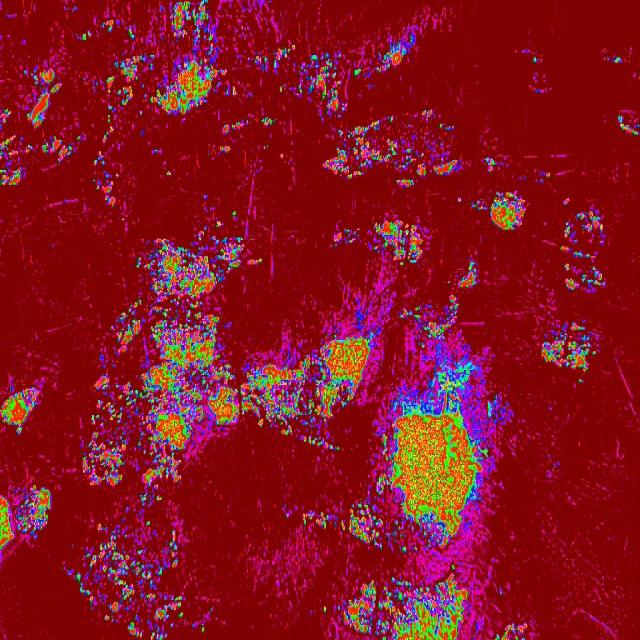fire: (90, 319, 380, 436), (378, 352, 500, 558), (65, 519, 186, 640), (120, 232, 243, 319), (320, 121, 466, 187), (335, 571, 471, 640), (558, 206, 608, 292), (157, 59, 229, 115), (132, 437, 186, 507), (165, 0, 229, 58), (398, 294, 463, 350), (297, 52, 346, 121), (0, 484, 52, 548), (368, 213, 430, 266), (540, 319, 598, 371), (106, 50, 156, 110), (24, 62, 64, 128), (82, 436, 126, 490), (374, 30, 420, 75), (0, 103, 24, 188), (0, 384, 39, 434), (90, 152, 119, 208), (490, 191, 528, 233), (348, 498, 379, 548), (250, 44, 296, 74), (299, 509, 347, 532), (41, 136, 75, 164), (456, 262, 480, 290), (299, 436, 342, 450), (334, 225, 361, 247), (617, 111, 640, 135), (497, 624, 528, 640), (483, 156, 506, 174), (222, 120, 250, 134), (418, 106, 439, 120), (537, 168, 553, 186), (469, 198, 488, 212), (99, 18, 115, 32), (259, 117, 279, 128), (218, 144, 236, 155), (125, 25, 137, 41), (246, 255, 262, 266), (612, 54, 624, 66), (352, 64, 363, 77), (278, 83, 288, 96), (105, 111, 114, 124), (23, 143, 34, 153), (531, 54, 540, 66), (163, 170, 174, 179), (230, 84, 238, 96), (102, 130, 110, 142), (575, 376, 586, 384), (151, 147, 162, 155), (80, 31, 88, 41), (214, 220, 224, 228), (386, 114, 396, 121), (562, 197, 572, 204), (605, 54, 612, 64), (448, 562, 456, 570), (264, 142, 272, 150), (322, 604, 328, 614), (200, 626, 207, 634), (232, 209, 238, 217), (457, 194, 462, 203), (209, 607, 215, 613), (447, 279, 451, 287), (140, 110, 144, 115)
